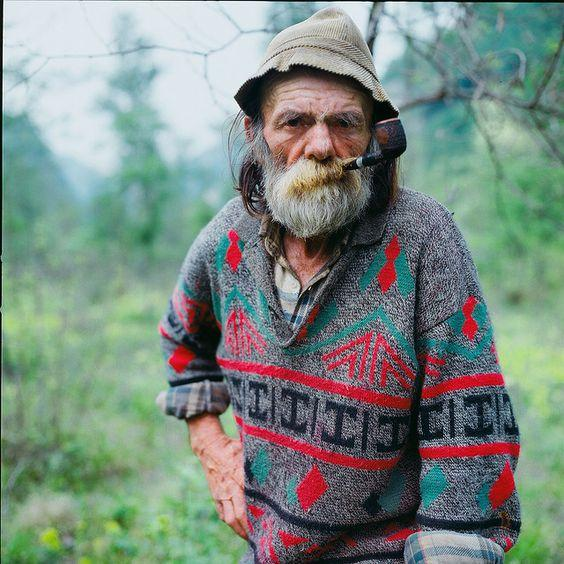trubka: (341, 117, 407, 171)
